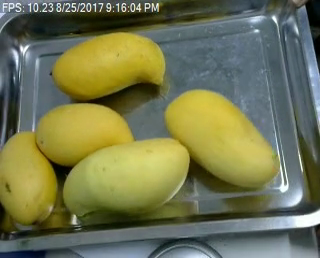Mango: (164, 88, 279, 192), (61, 134, 189, 218), (50, 31, 166, 99), (35, 100, 137, 163), (0, 128, 57, 227)
